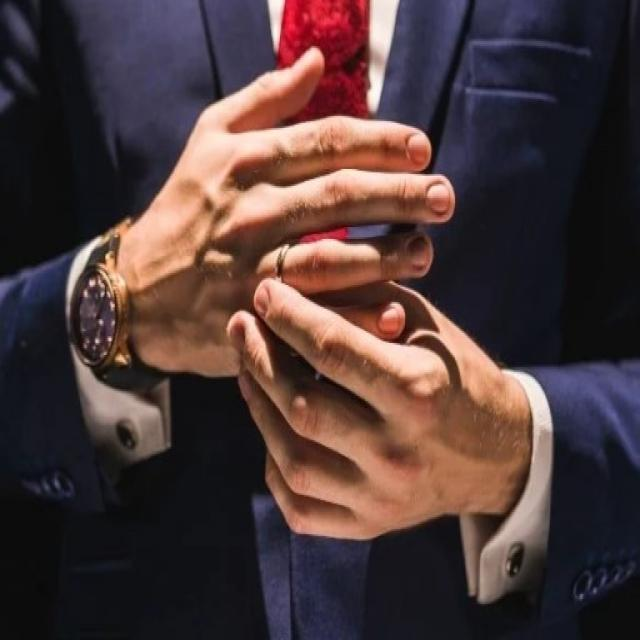Watch: (74, 234, 134, 372)
